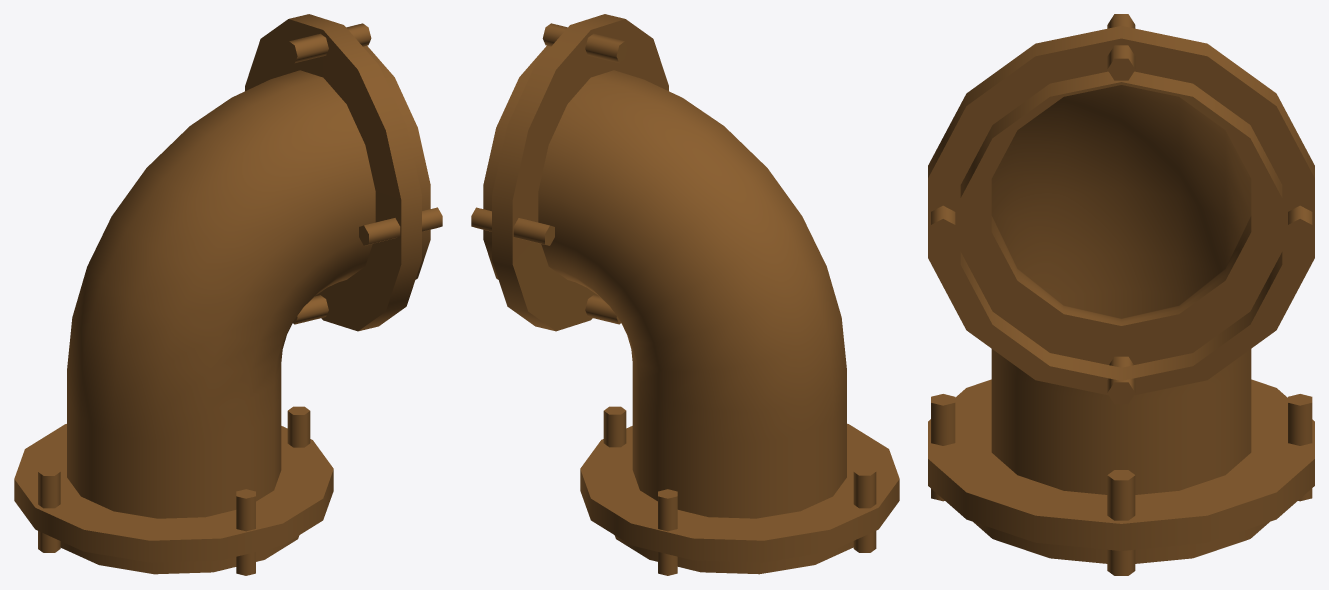
Rendered from ULY_PROP_tuyau_petit_angle.fbx.
3 views of the same model, side by side, from view 1: azimuth 30°, elevation 25°; view 2: azimuth 150°, elevation 25°; view 3: azimuth 270°, elevation 25° (orthographic). The views are drawn at different scales.
Parts seen in each view (by area): view 1: ULY_PROP_tuyau_petit_angle; view 2: ULY_PROP_tuyau_petit_angle; view 3: ULY_PROP_tuyau_petit_angle.
Part boxes in pixels (x1,y1,x2,y2): ULY_PROP_tuyau_petit_angle: [14, 14, 442, 575]; ULY_PROP_tuyau_petit_angle: [471, 14, 899, 575]; ULY_PROP_tuyau_petit_angle: [928, 14, 1314, 575].
Size of the model in its own units: 35.52 by 46.43 by 29.07.
